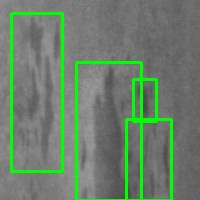inclusion: (76, 62, 141, 200), (11, 13, 62, 171), (126, 119, 171, 200), (133, 79, 156, 121)
